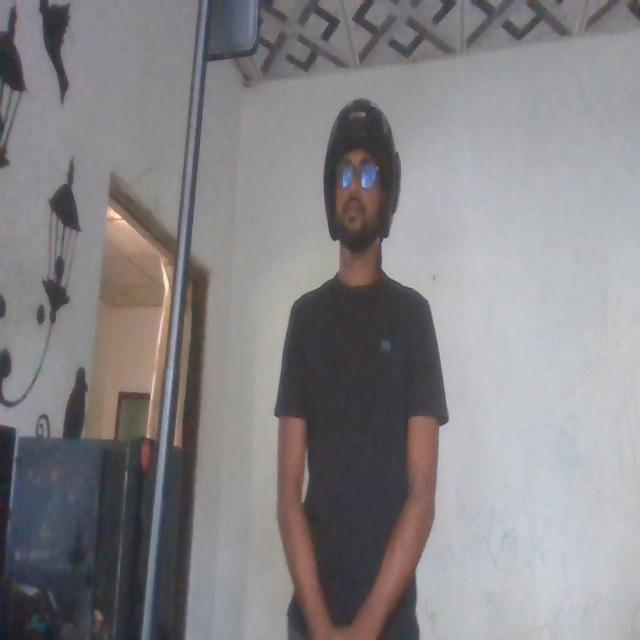Helmet_Wearer: (318, 84, 406, 272)
Person: (270, 82, 443, 640)
